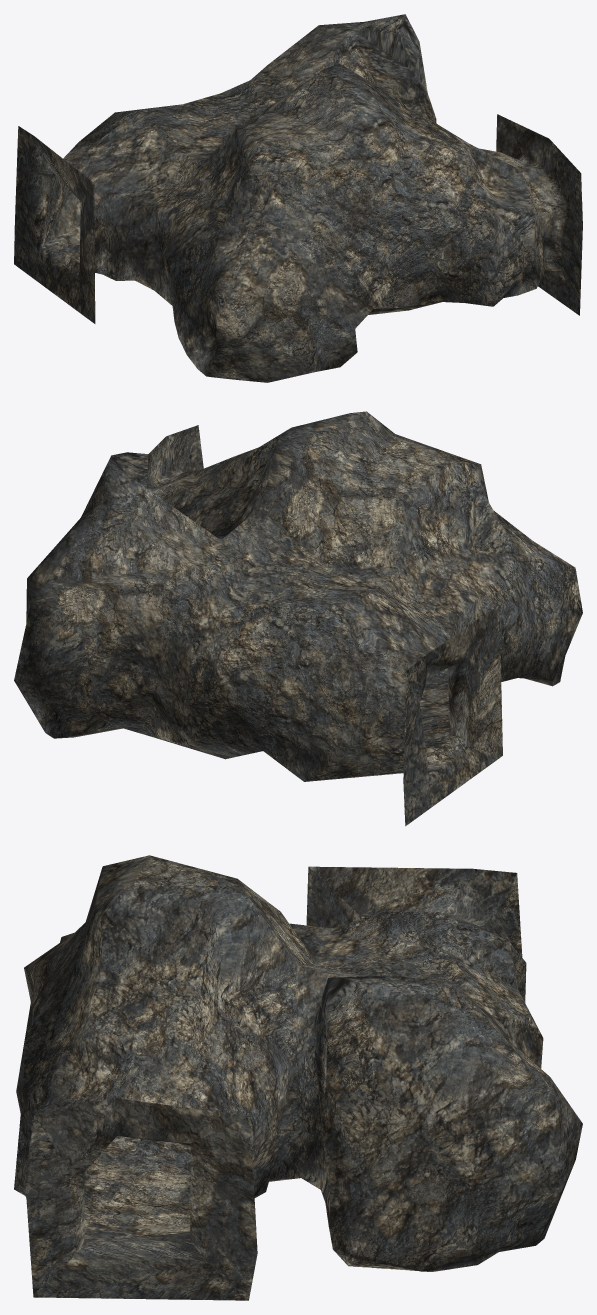
Rendered from Module11_LOD2.fbx.
3 views of the same model, one above another, from view 1: azimuth 30°, elevation 25°; view 2: azimuth 150°, elevation 25°; view 3: azimuth 270°, elevation 25° (orthographic). The views are drawn at different scales.
Visible parts, largest first — view 1: cave_el11_1800_Group40125; view 2: cave_el11_1800_Group40125; view 3: cave_el11_1800_Group40125.
Part boxes in pixels (x1,y1,x2,y2): cave_el11_1800_Group40125: (14,14,582,382); cave_el11_1800_Group40125: (14,411,582,826); cave_el11_1800_Group40125: (14,855,582,1300).
Size of the model in its own units: 20.56 by 11.96 by 20.38.
